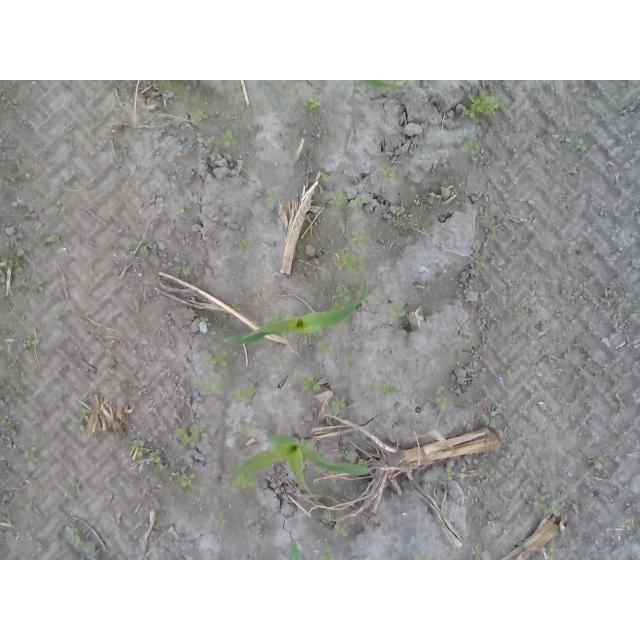Maize: (223, 280, 367, 348), (228, 433, 372, 496), (335, 80, 417, 90), (286, 540, 303, 560)
Weeds: (461, 89, 510, 119), (130, 439, 167, 472), (64, 522, 96, 560), (320, 189, 367, 209), (174, 423, 209, 449), (196, 348, 240, 368), (336, 248, 365, 273), (532, 495, 561, 518), (287, 95, 321, 113), (72, 403, 91, 433), (229, 386, 257, 406), (375, 161, 400, 183), (1, 253, 28, 273), (208, 127, 237, 145), (361, 382, 400, 395), (460, 133, 480, 155), (130, 239, 156, 255), (300, 376, 320, 396), (200, 378, 225, 393), (17, 336, 39, 353), (533, 544, 556, 560), (0, 504, 16, 527), (350, 228, 368, 248), (386, 303, 406, 321), (434, 394, 455, 410), (64, 170, 81, 187), (333, 287, 352, 302), (490, 404, 503, 425), (456, 329, 473, 345), (23, 445, 37, 464), (512, 303, 529, 318), (472, 254, 490, 268), (332, 397, 347, 413), (168, 201, 184, 216), (318, 339, 335, 353), (575, 138, 589, 155), (336, 523, 352, 537), (488, 217, 504, 231), (239, 239, 253, 255), (234, 422, 251, 435), (336, 448, 353, 461), (180, 474, 196, 487), (263, 188, 279, 201), (240, 478, 257, 490), (478, 457, 487, 479), (6, 421, 18, 437), (230, 80, 242, 96), (471, 544, 482, 561), (199, 316, 213, 329), (567, 160, 577, 177), (321, 548, 334, 561), (212, 515, 224, 529), (319, 171, 332, 183), (504, 454, 518, 465), (197, 109, 210, 120), (593, 456, 608, 465), (617, 303, 632, 312), (359, 459, 374, 468), (620, 519, 632, 530), (33, 542, 44, 554), (100, 80, 113, 90), (427, 192, 441, 201), (128, 384, 143, 392), (446, 467, 454, 481), (578, 295, 588, 306), (417, 553, 432, 560), (487, 391, 497, 401), (502, 368, 513, 377), (231, 304, 241, 313), (182, 266, 191, 275), (15, 392, 24, 401), (302, 334, 312, 342), (319, 465, 329, 473), (392, 208, 400, 217), (191, 296, 197, 304), (0, 378, 6, 386)
